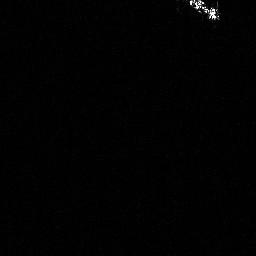ship: (186, 1, 222, 22)
